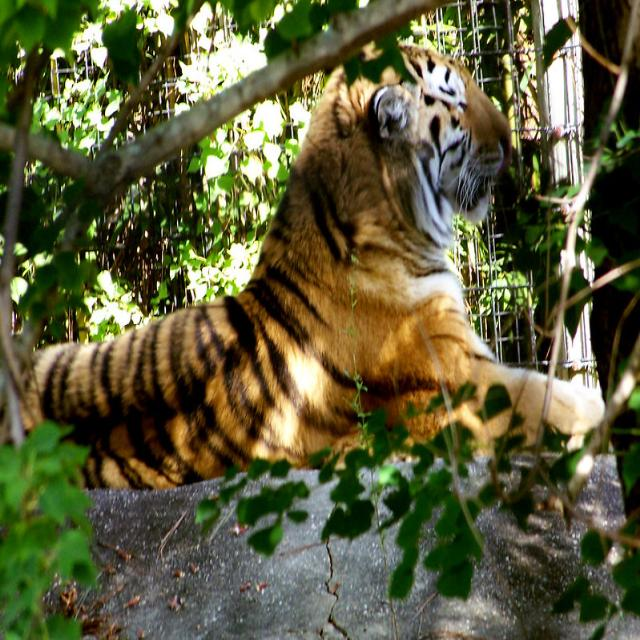Tiger: (0, 36, 614, 498)
